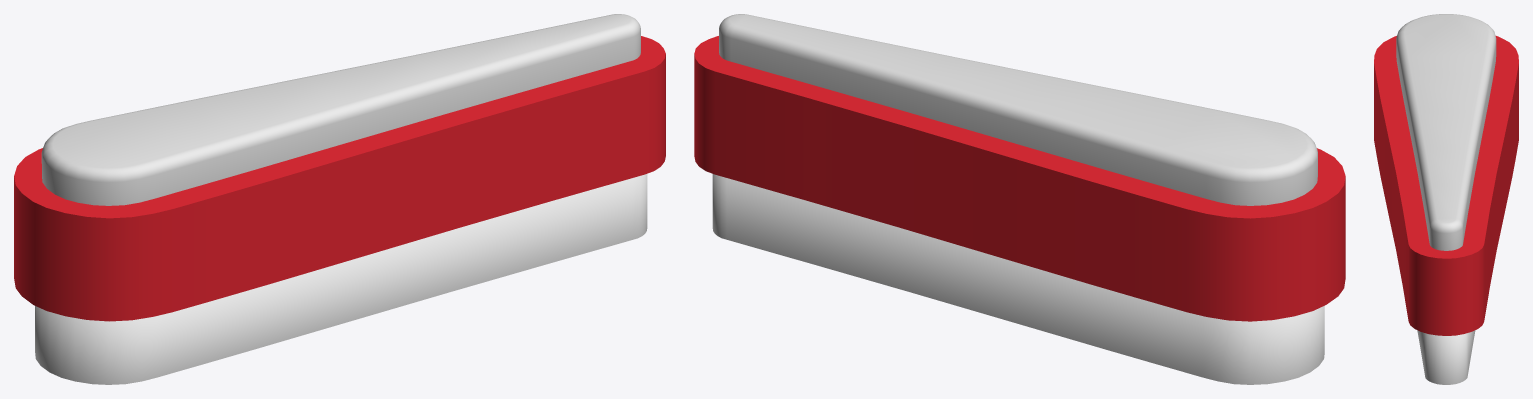
File: Flipper, Generic (3in).fbx
The picture shows the model from 3 angles, left to right: view 1: azimuth 30°, elevation 25°; view 2: azimuth 150°, elevation 25°; view 3: azimuth 270°, elevation 25°; orthographic projection. The views are drawn at different scales.
Parts seen in each view (by area): view 1: Flipper, Generic (3"); view 2: Flipper, Generic (3"); view 3: Flipper, Generic (3").
Boxes of the visible parts, x1,y1,x2,y2 form: Flipper, Generic (3"): [14, 14, 665, 384]; Flipper, Generic (3"): [694, 14, 1345, 384]; Flipper, Generic (3"): [1374, 14, 1518, 384].
Size of the model in its own units: 8.01 by 2.54 by 2.12.
